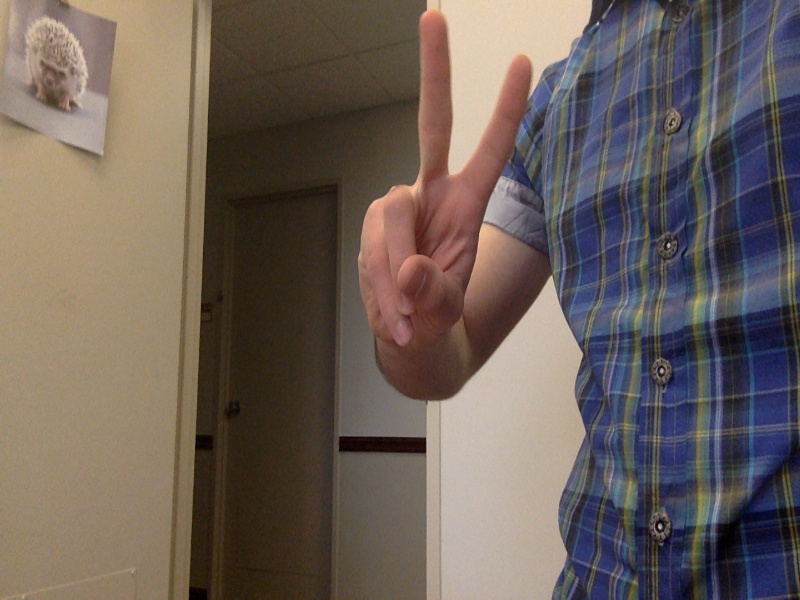2-hand: (365, 11, 535, 343)
